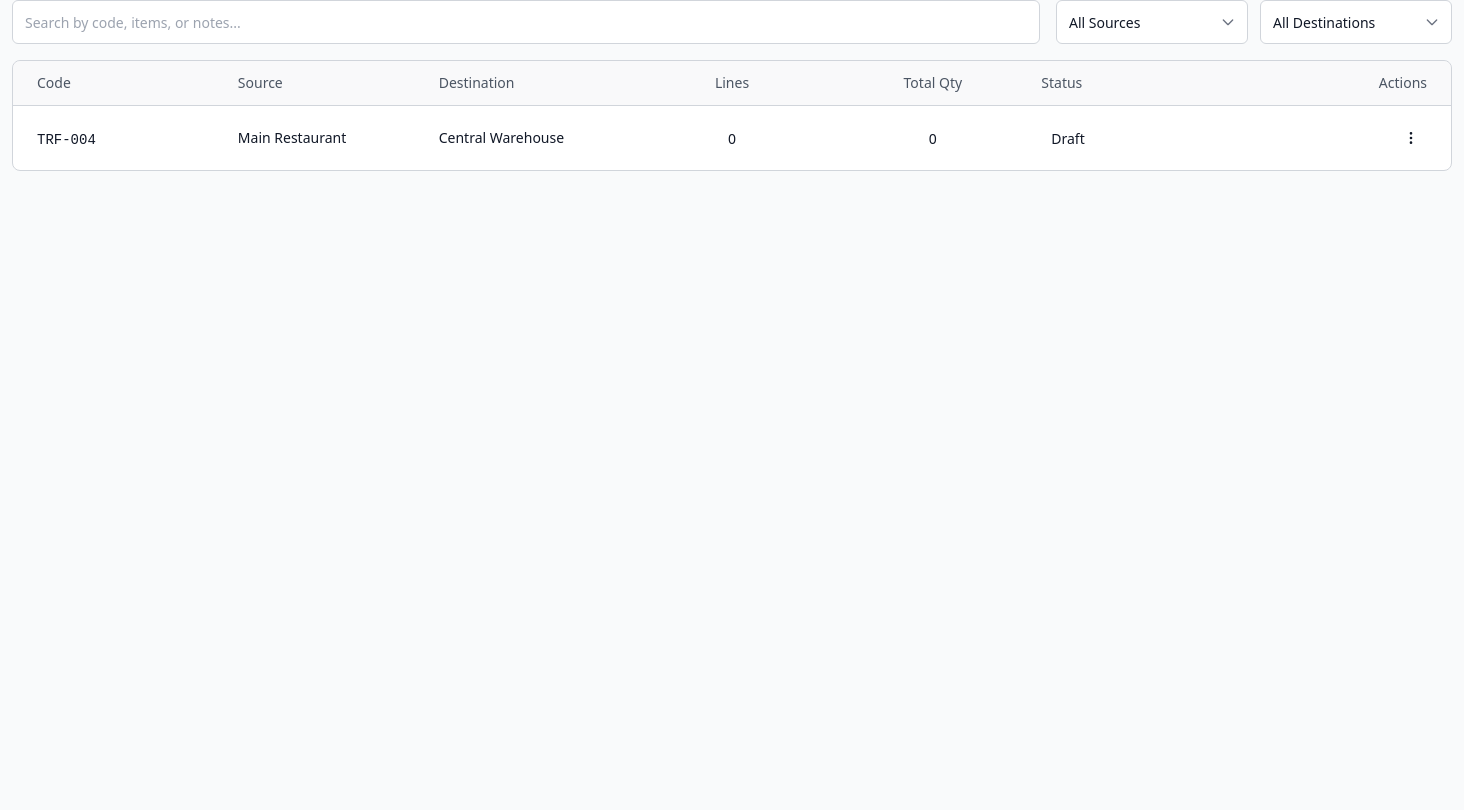
it: TransfersList › Actions › should show delete action for empty draft transfer
Click the button named "more". click: (1411, 138)
box: [1395,122,1427,154]
(page scrolled)
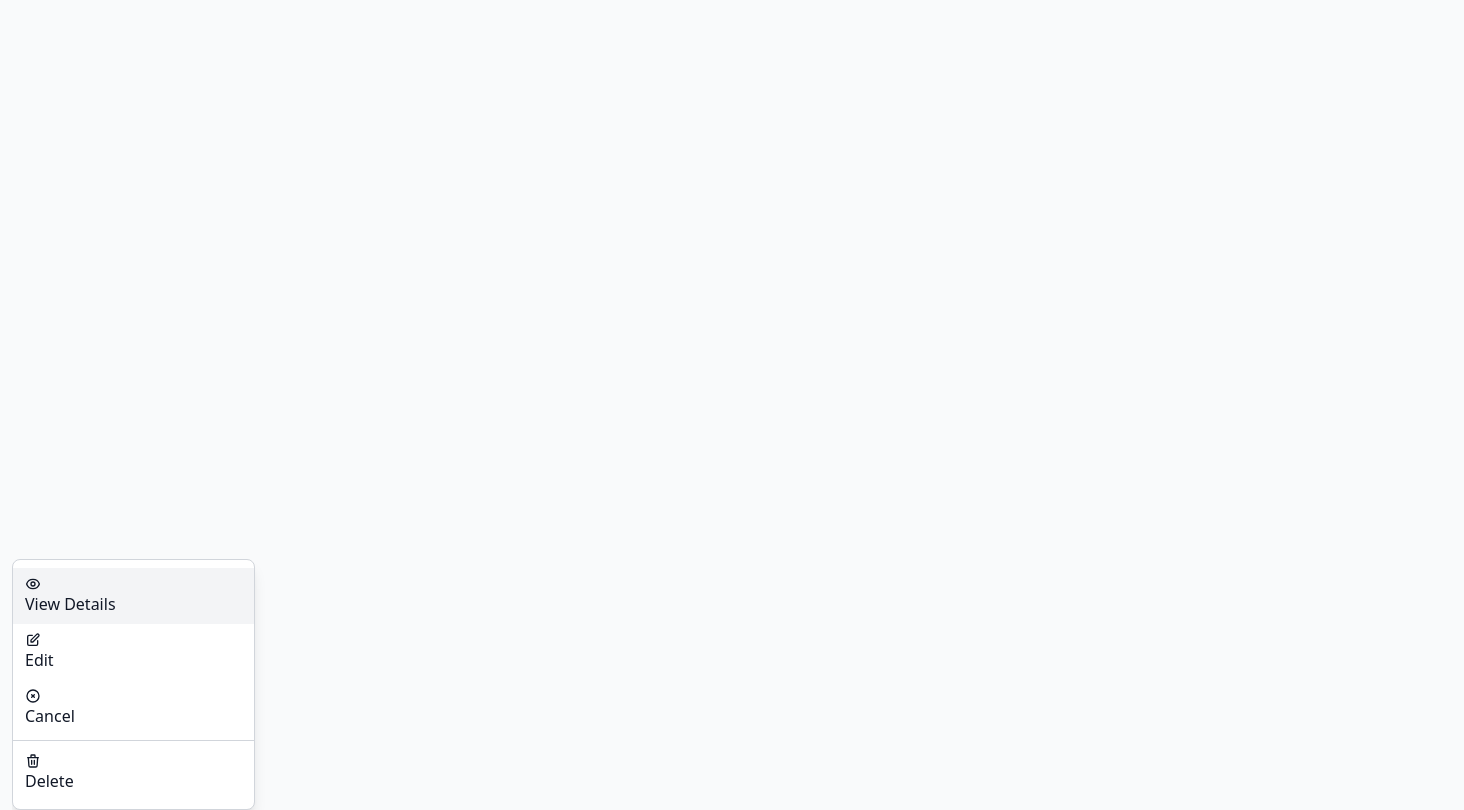
Check: the menu item "Delete" is shown, box [13,745,254,801]
